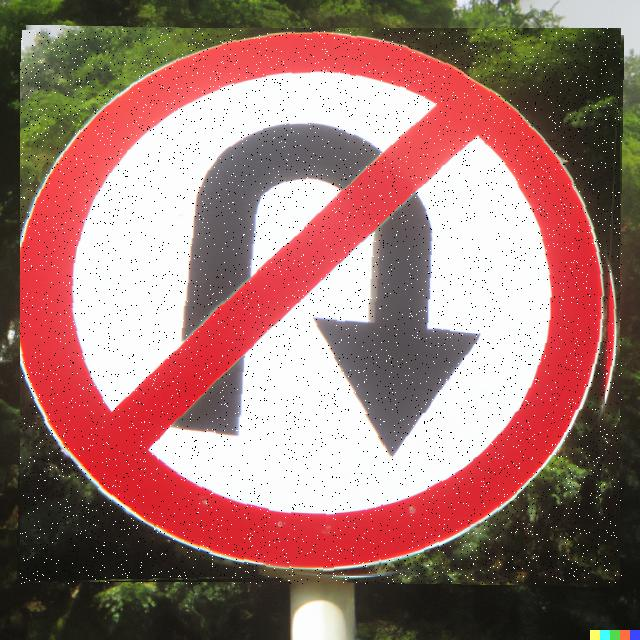no u turn: (20, 28, 622, 584)
